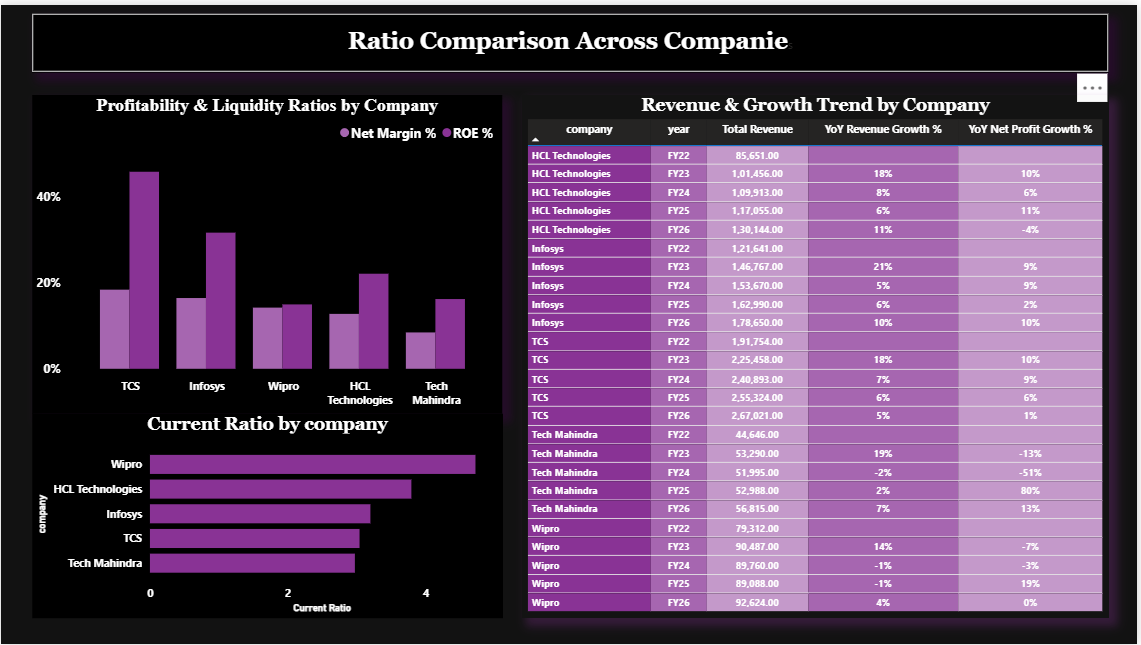

This screenshot's page, from the dashboard's own definition file:
{"tool":"powerbi","page":{"name":"Comparison","canvas":[1280,720],"ordinal":1},"visuals":[{"type":"textbox","box":[35.2,9.9,1212.7,66.2],"z":0},{"type":"clusteredColumnChart","title":"Profitability & Liquidity Ratios by Company","fields":{"Category":["public it_financials.company"],"Y":["Measures (2).Net Margin %","Measures (2).ROE %"]},"box":[35.2,101.4,529.6,345.1],"z":1000},{"type":"tableEx","title":"Revenue & Growth Trend by Company","fields":{"Values":["public it_financials.company","public it_financials.year","Measures (2).Total Revenue","Measures (2).YoY Revenue Growth %","Measures (2).YoY Net Profit Growth %"]},"box":[587.3,101.4,660.6,588.7],"z":2000},{"type":"clusteredBarChart","fields":{"Category":["public it_financials.company"],"Y":["Measures (2).Current Ratio"]},"box":[35,460,530,230],"z":3000}]}

Visuals, with their boxes in screenshot pixels (x1, y1, x2, y2), scaled from the page's 1280x720 canvas onto the 1141x645 screenshot:
textbox: detection(31, 9, 1112, 68)
"Profitability & Liquidity Ratios by Company" clusteredColumnChart: detection(31, 91, 503, 400)
"Revenue & Growth Trend by Company" tableEx: detection(524, 91, 1112, 618)
clusteredBarChart - public it_financials.company x Measures (2).Current Ratio: detection(31, 412, 504, 618)
